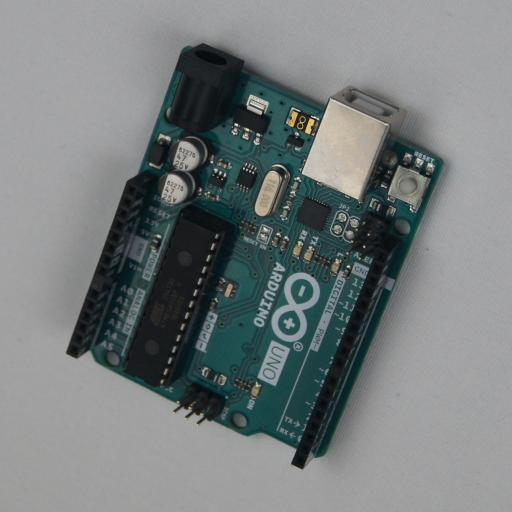Arduino Uno -Green-: (66, 43, 444, 469)
